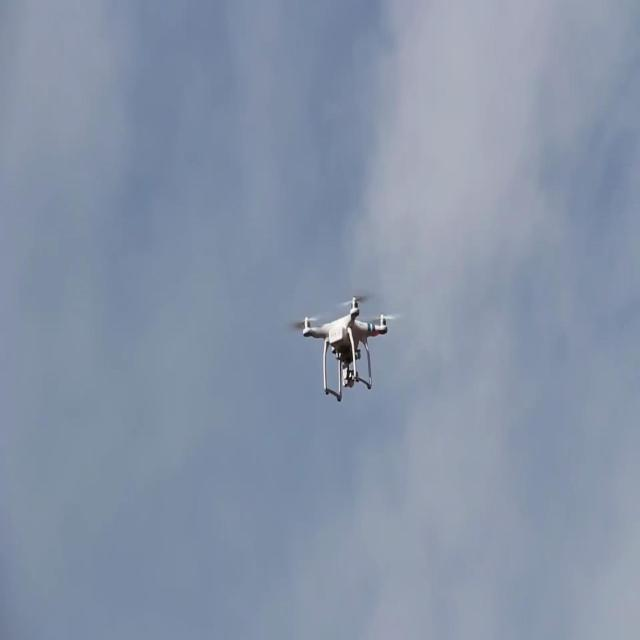drone: (300, 286, 394, 402)
